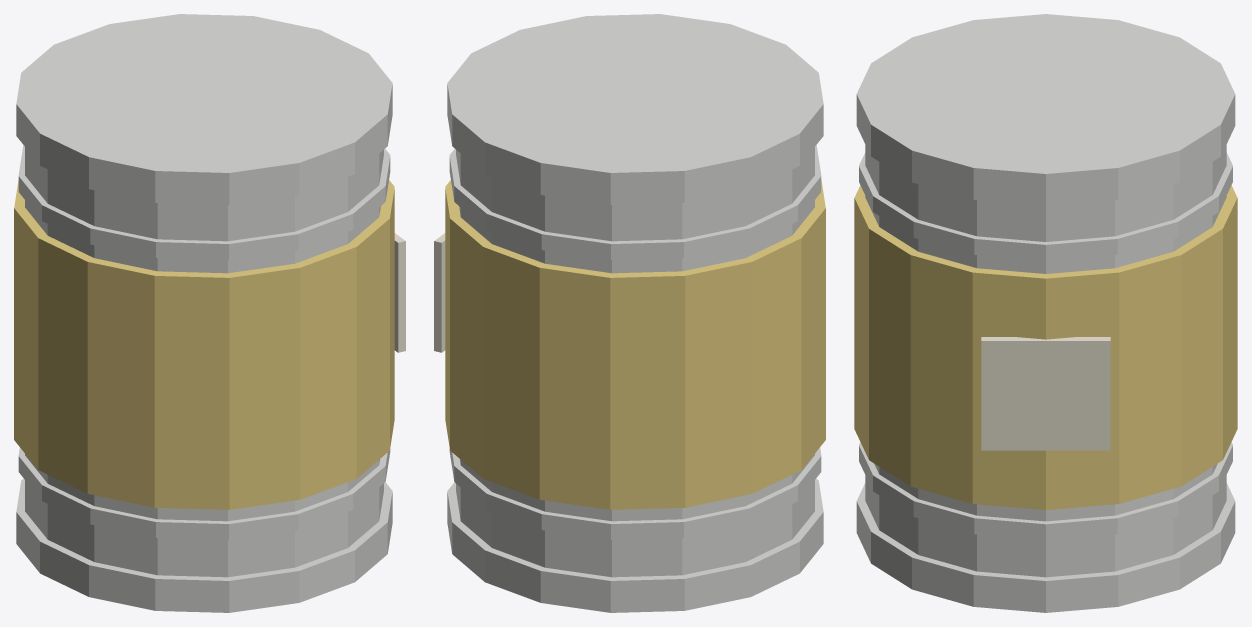
File: food_soup.glb
3 views of the same model, side by side, from view 1: azimuth 30°, elevation 25°; view 2: azimuth 150°, elevation 25°; view 3: azimuth 270°, elevation 25° (orthographic).
Parts seen in each view (by area): view 1: Tin; view 2: Tin; view 3: Tin.
Part boxes in pixels (bbox=[...]): Tin: bbox=[14, 14, 405, 612]; Tin: bbox=[434, 14, 825, 612]; Tin: bbox=[854, 14, 1237, 612].
Size of the model in its own units: 0.0877 by 0.11 by 0.087.
